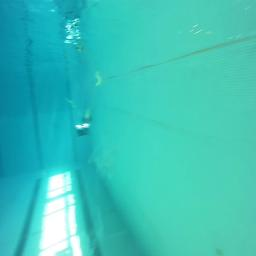Full: (83, 115, 93, 122)
front: (74, 123, 91, 135)
